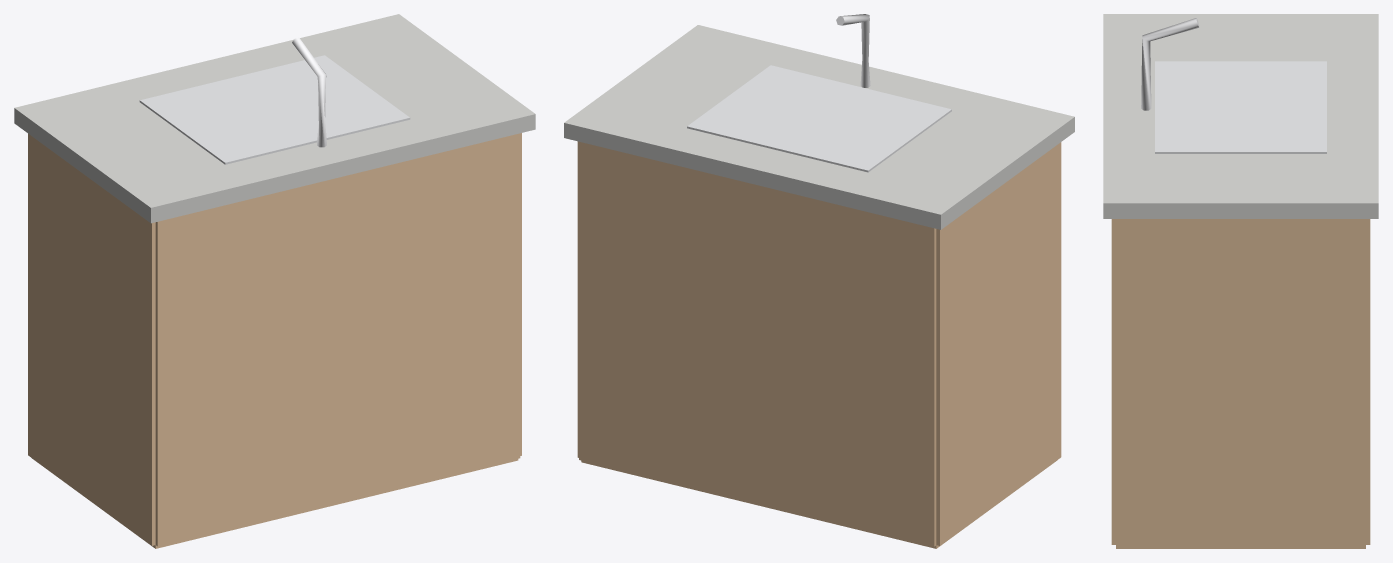
File: sink_unit.glb
3 renders of one model, left to right at view 1: azimuth 30°, elevation 25°; view 2: azimuth 150°, elevation 25°; view 3: azimuth 270°, elevation 25°, orthographic. The views are drawn at different scales.
Parts seen in each view (by area): view 1: sink_unit; view 2: sink_unit; view 3: sink_unit.
Boxes of the visible parts, x1=… form: sink_unit: x1=14, y1=14, x2=535, y2=548; sink_unit: x1=564, y1=14, x2=1074, y2=548; sink_unit: x1=1103, y1=14, x2=1378, y2=548.
Bounding box in the file's own units: 1.04 × 1.13 × 0.64.
